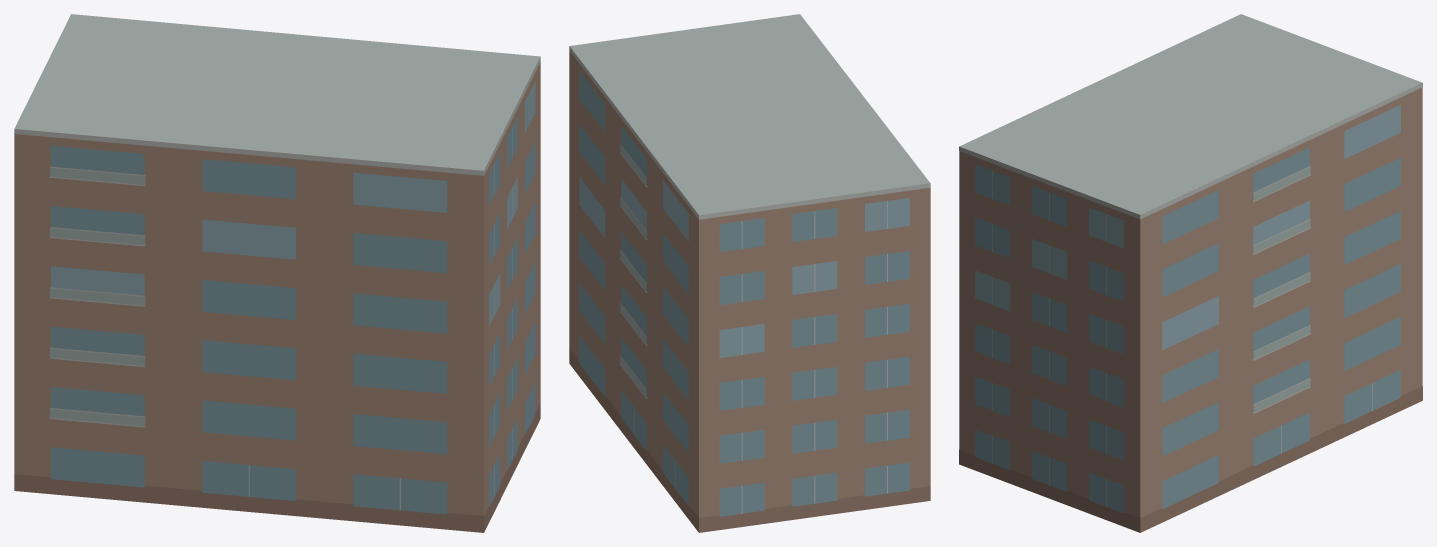
File: survey-upis-32935807.glb
3 views of the same model, side by side, from view 1: azimuth 30°, elevation 25°; view 2: azimuth 150°, elevation 25°; view 3: azimuth 270°, elevation 25° (orthographic). The views are drawn at different scales.
Visible parts, largest first — view 1: survey-upis-32935807.tmp; view 2: survey-upis-32935807.tmp; view 3: survey-upis-32935807.tmp.
Part boxes in pixels (x1=…): survey-upis-32935807.tmp: x1=14, y1=14, x2=540, y2=532; survey-upis-32935807.tmp: x1=569, y1=14, x2=930, y2=532; survey-upis-32935807.tmp: x1=959, y1=14, x2=1422, y2=532.
Bounding box in the file's own units: 23.6 × 17.4 × 23.
